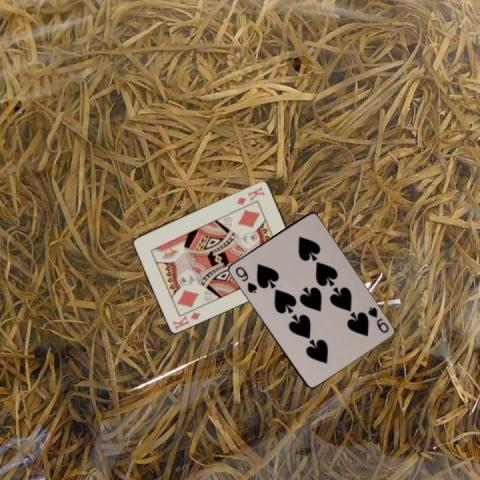9s: (232, 263, 259, 295), (365, 304, 390, 335)
Kd: (233, 183, 266, 206), (170, 308, 202, 330)
